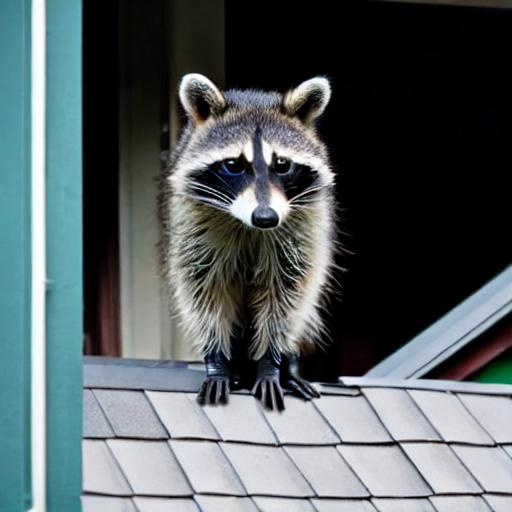raccoon: (158, 66, 345, 383)
